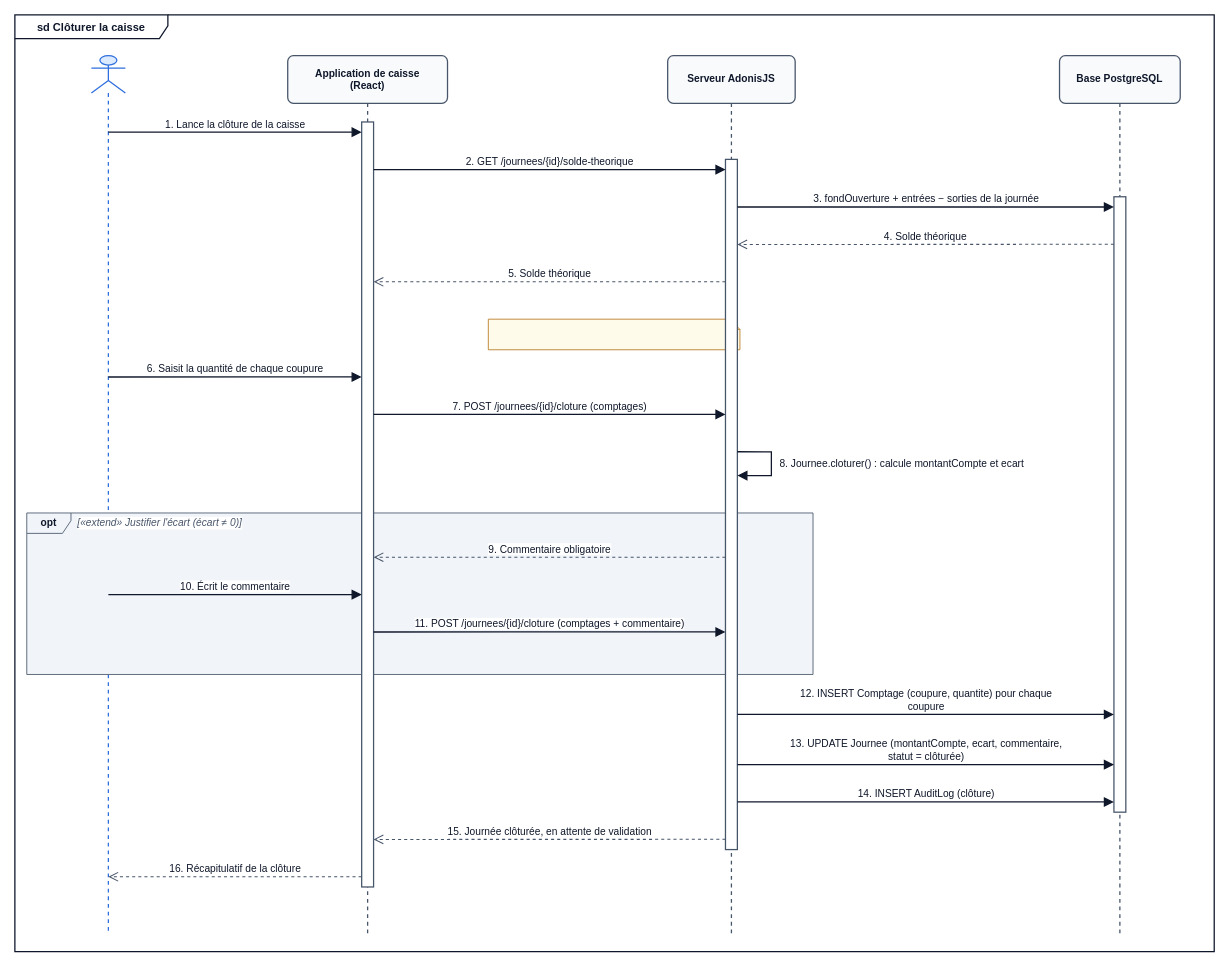
Image size: 1230x967. Some labels were removed from this diagram. Each missing label, with the centre of its shape:
Caissier: point (108, 495)
«include» Compter billets et pièces FCFA: point (613, 334)
